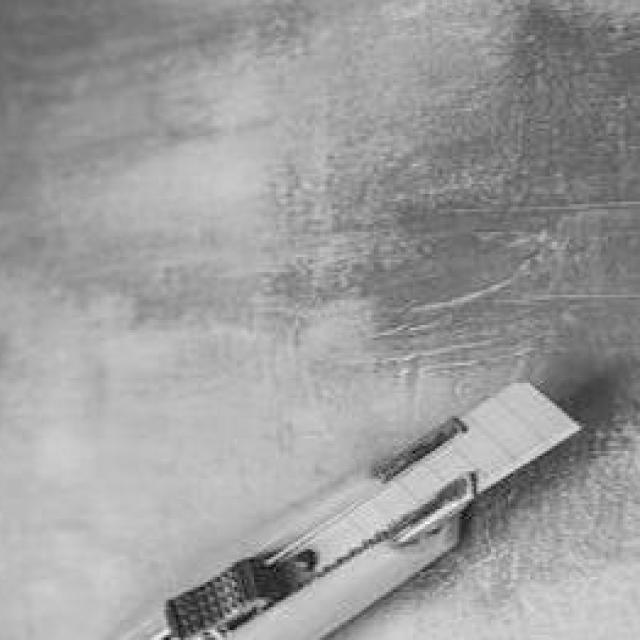estilete: (104, 382, 577, 640)
